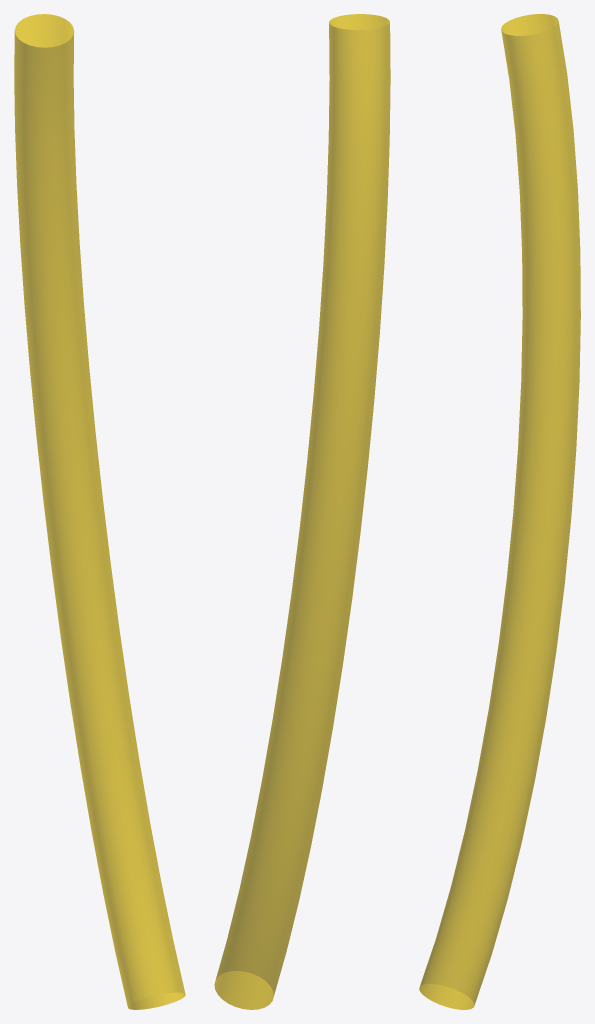
File: Event_75125125_track_57.fbx
3 renders of one model, left to right at view 1: azimuth 30°, elevation 25°; view 2: azimuth 210°, elevation 25°; view 3: azimuth 270°, elevation 25°, orthographic. The views are drawn at different scales.
Parts seen in each view (by area): view 1: Model; view 2: Model; view 3: Model.
Part boxes in pixels (x1,y1,x2,y2): Model: (14, 14, 185, 1009); Model: (214, 14, 390, 1009); Model: (419, 14, 580, 1009).
Size of the model in its own units: 0.0943 by 0.7199 by 0.111.
